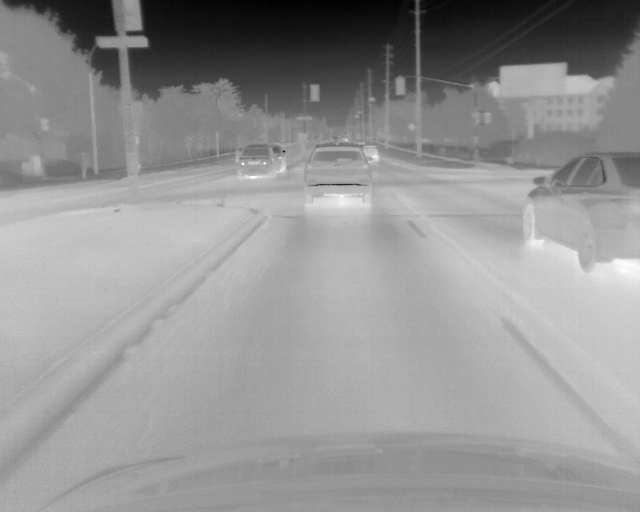car: (303, 143, 372, 206), (238, 145, 276, 177), (273, 142, 285, 173), (365, 144, 377, 159)
